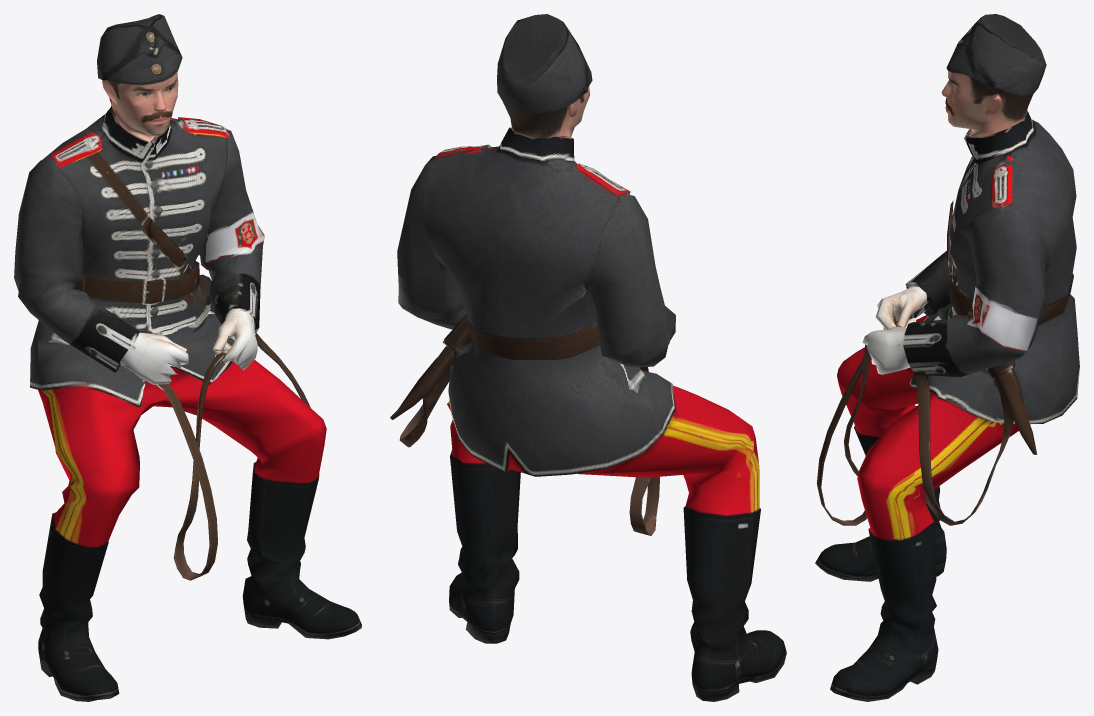
File: Rakuuna.glb
3 views of the same model, side by side, from view 1: azimuth 30°, elevation 25°; view 2: azimuth 150°, elevation 25°; view 3: azimuth 270°, elevation 25° (orthographic). The views are drawn at different scales.
Bounding box in the file's own units: 0.4858 × 0.9536 × 0.373.
1 material, 1 textured.
